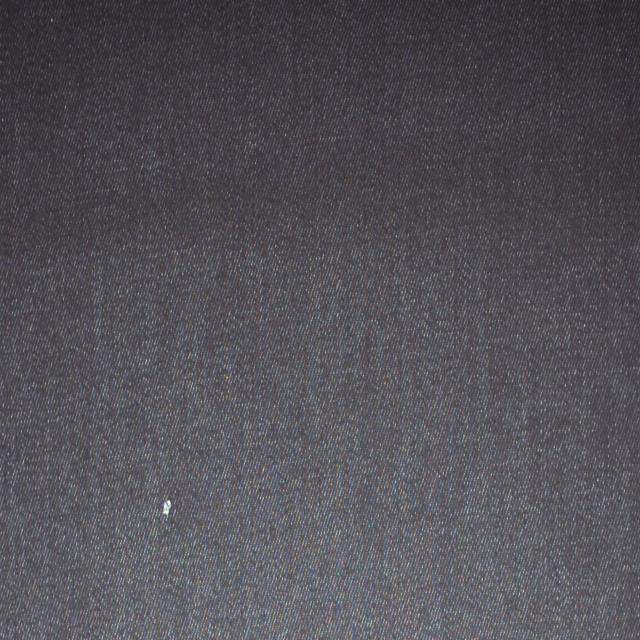Knot: (162, 501, 172, 516)
